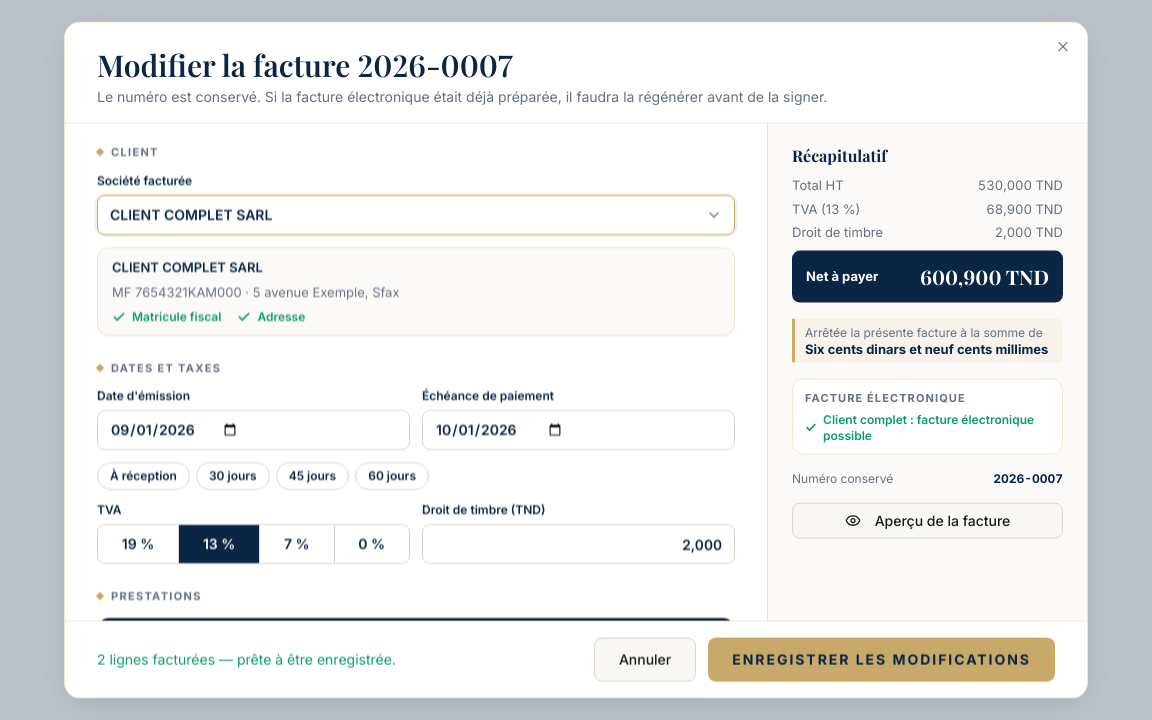
Test: FactureFormSheet : nouvelle présentation › chaque ligne affiche son total HT et la TVA se choisit en un clic
This screenshot has width=1152, height=720.
Click the button "19 %" at (139, 544), box [98, 525, 179, 563]
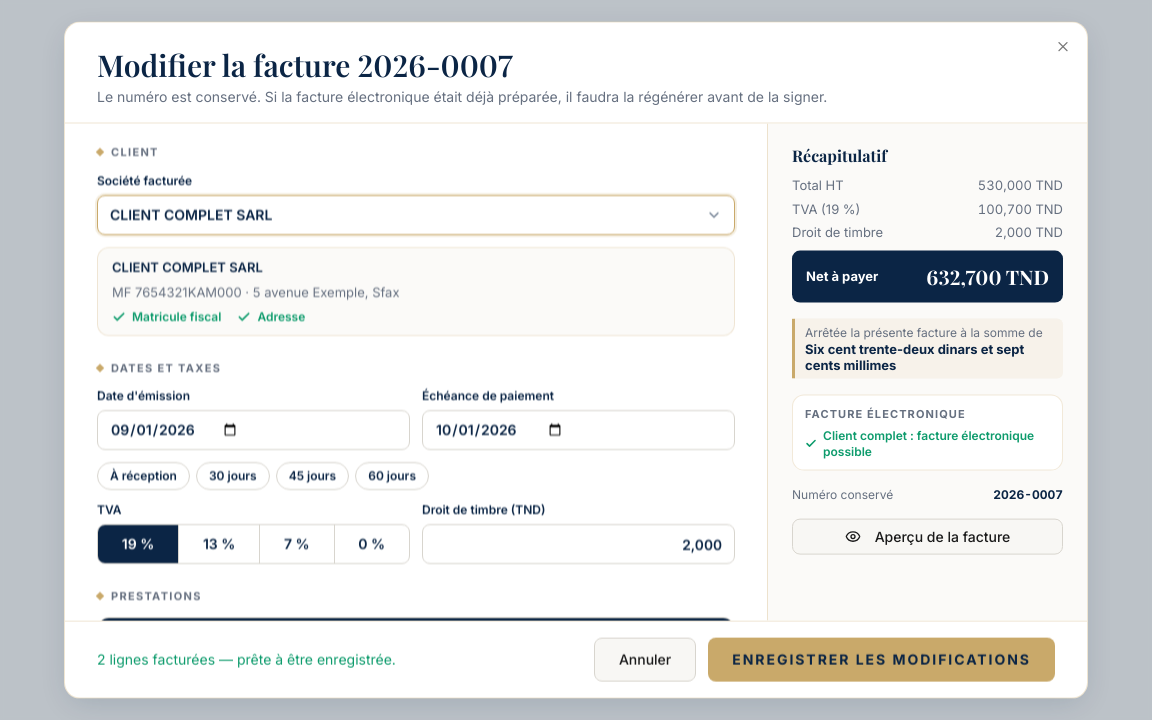
expect the text "TVA (19 %)" is shown: met, box [792, 199, 860, 219]
